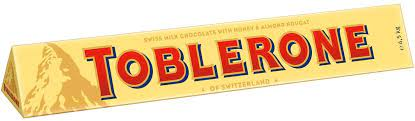Chocolate: (1, 1, 415, 119)
